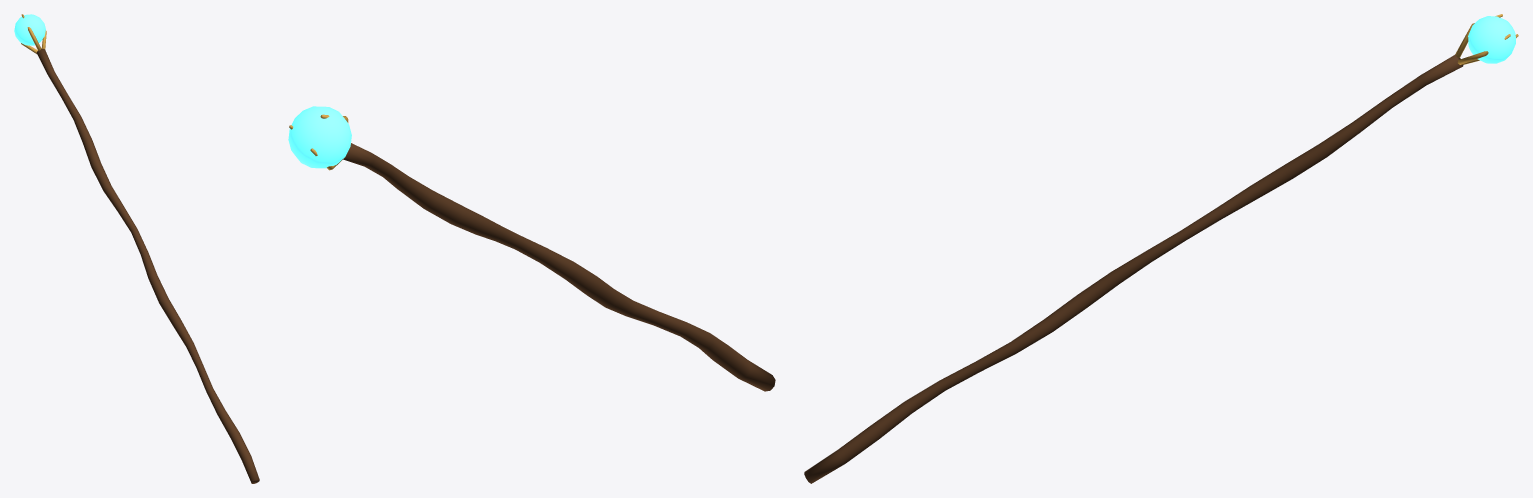
File: staff.glb
The picture shows the model from 3 angles, left to right: view 1: azimuth 30°, elevation 25°; view 2: azimuth 150°, elevation 25°; view 3: azimuth 270°, elevation 25°; orthographic projection. The views are drawn at different scales.
Parts seen in each view (by area): view 1: staff; view 2: staff; view 3: staff.
Boxes of the visible parts, x1,y1,x2,y2 form: staff: [14, 14, 259, 483]; staff: [288, 106, 775, 391]; staff: [804, 14, 1518, 483].
Bounding box in the file's own units: 0.1104 × 1.16 × 1.62.
